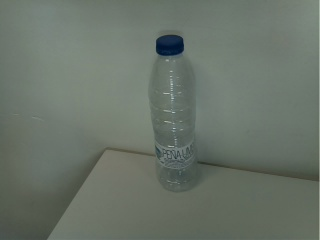botella plastico: (148, 33, 203, 195)
